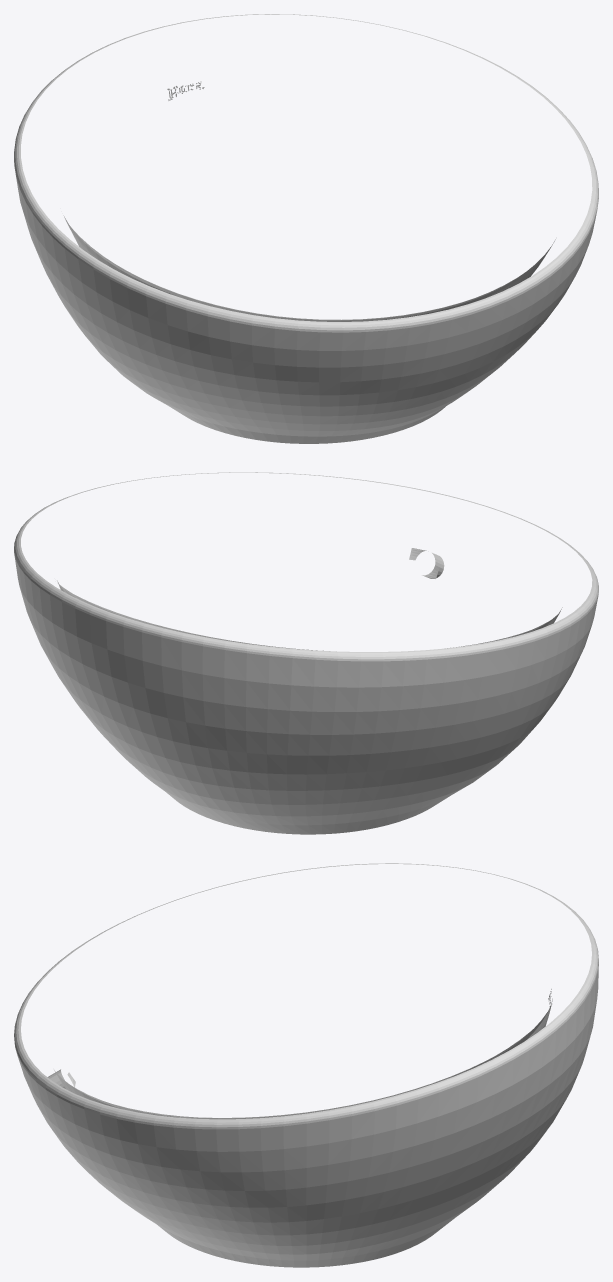
File: AEC_30468.glb
The picture shows the model from 3 angles, top to bottom: view 1: azimuth 30°, elevation 25°; view 2: azimuth 150°, elevation 25°; view 3: azimuth 270°, elevation 25°; orthographic projection.
Visible parts, largest first — view 1: 0; view 2: 0; view 3: 0.
Boxes of the visible parts, x1=… form: 0: x1=14, y1=14, x2=598, y2=443; 0: x1=14, y1=472, x2=598, y2=834; 0: x1=14, y1=863, x2=598, y2=1267.
Bounding box in the file's own units: 0.4243 × 0.23 × 0.4199.
Materials: 1 (1 with a texture image).
